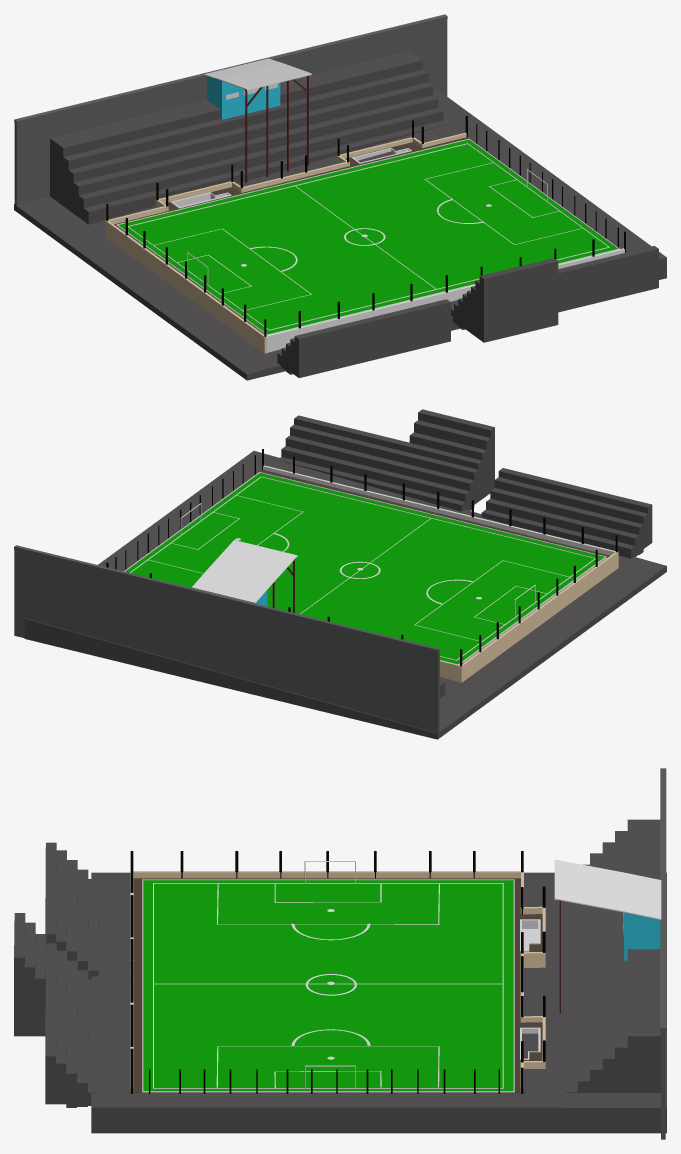
The model's file is canchA1.glb.
3 renders of one model, top to bottom at view 1: azimuth 30°, elevation 25°; view 2: azimuth 150°, elevation 25°; view 3: azimuth 270°, elevation 25°, orthographic. The views are drawn at different scales.
Parts seen in each view (by area): view 1: Cube; view 2: Cube; view 3: Cube.
Part boxes in pixels (box(x1,y1,x2,y2)): Cube: box(14, 14, 666, 380); Cube: box(14, 409, 666, 739); Cube: box(14, 768, 666, 1139).
Size of the model in its own units: 97.74 by 24.74 by 104.
